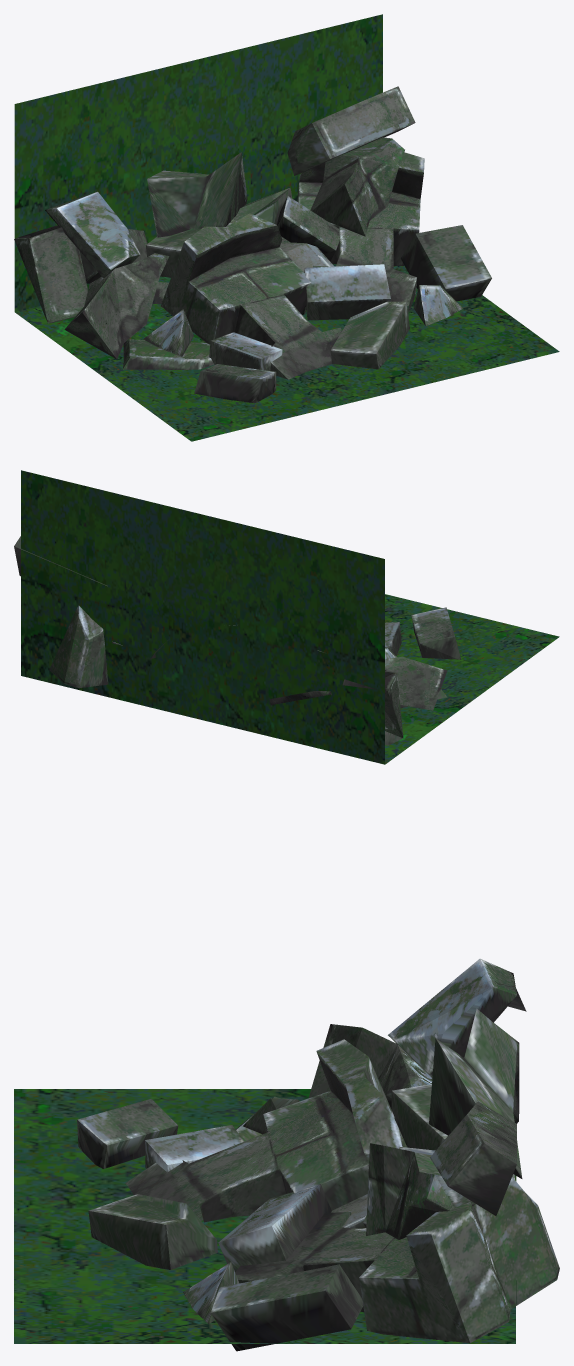
File: stemple_rubble_straight_04.fbx
The picture shows the model from 3 angles, top to bottom: view 1: azimuth 30°, elevation 25°; view 2: azimuth 150°, elevation 25°; view 3: azimuth 270°, elevation 25°; orthographic projection. The views are drawn at different scales.
Visible parts, largest first — view 1: obj1.018; view 2: obj1.018; view 3: obj1.018.
Boxes of the visible parts, x1,y1,x2,y2 form: obj1.018: (14, 14, 559, 441); obj1.018: (14, 470, 559, 764); obj1.018: (14, 958, 559, 1351).
Bounding box in the file's own units: 4.19 × 2.43 × 3.62.
